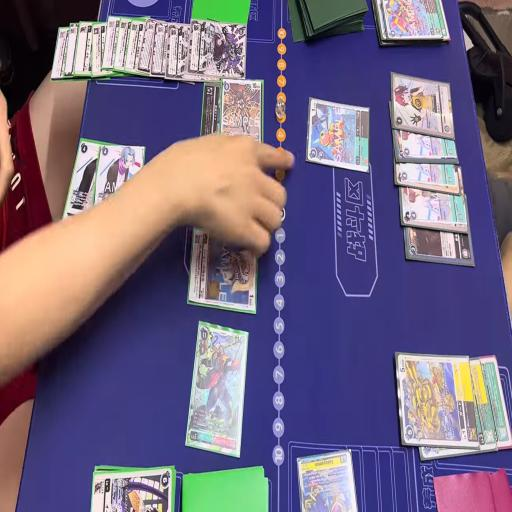card: (186, 319, 250, 460), (400, 353, 478, 445), (189, 223, 260, 316), (306, 97, 372, 172), (390, 71, 458, 141), (95, 134, 149, 214), (91, 463, 176, 512), (61, 135, 103, 232), (396, 184, 473, 234), (296, 450, 358, 512), (185, 18, 247, 79), (220, 79, 264, 161), (398, 224, 477, 269), (481, 352, 512, 448), (396, 154, 464, 196), (468, 353, 496, 451), (392, 127, 463, 165), (384, 0, 443, 42), (164, 27, 196, 83), (72, 17, 99, 83), (200, 81, 225, 149), (50, 22, 76, 85), (102, 14, 125, 78), (138, 14, 162, 75), (150, 20, 174, 79), (114, 15, 135, 76), (126, 14, 146, 78), (64, 18, 86, 76), (92, 17, 111, 81)
